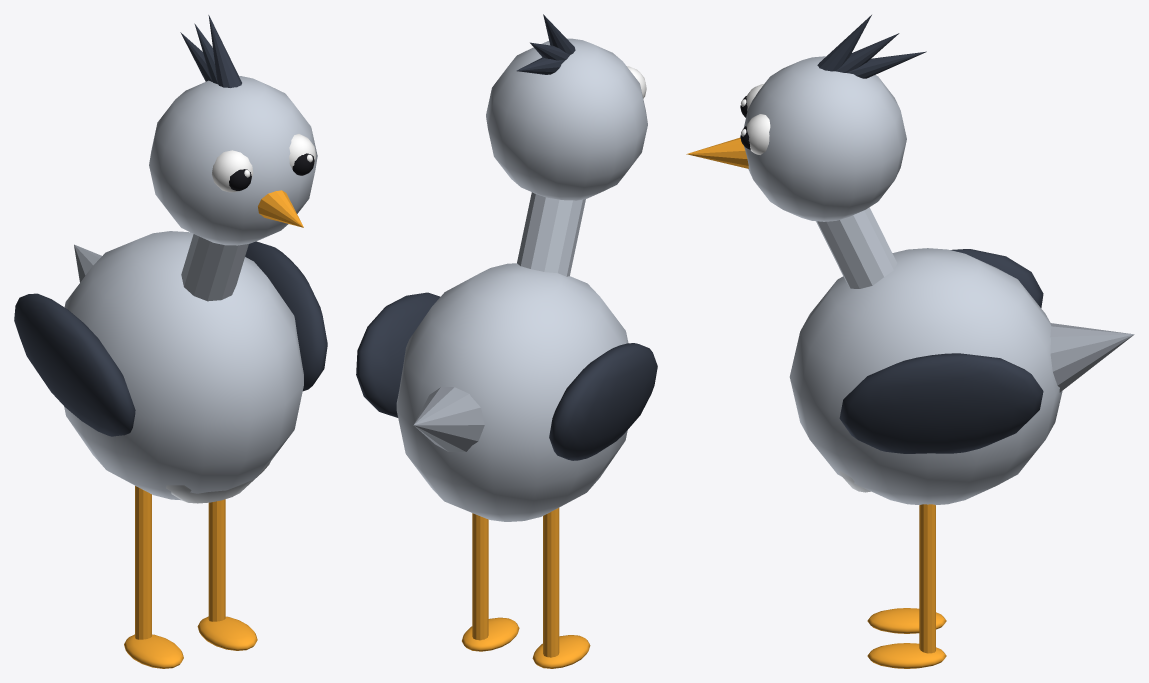
3 views of the same model, side by side, from view 1: azimuth 30°, elevation 25°; view 2: azimuth 150°, elevation 25°; view 3: azimuth 270°, elevation 25° (orthographic). The views are drawn at different scales.
Parts seen in each view (by area): view 1: Heron; view 2: Heron; view 3: Heron.
Boxes of the visible parts, <box> form: Heron: <box>14,15,327,668</box>; Heron: <box>356,14,657,668</box>; Heron: <box>686,15,1134,668</box>.
Size of the model in its own units: 2.02 by 5.05 by 3.25.
Materials: 1 (1 with a texture image).
